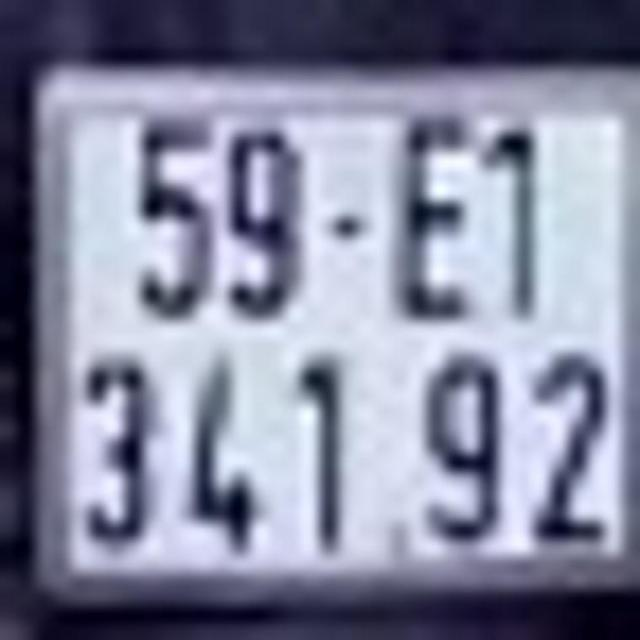1: (486, 103, 548, 314), (298, 351, 356, 564)
2: (532, 339, 613, 544)
3: (80, 349, 158, 556)
4: (188, 352, 272, 554)
5: (128, 102, 218, 324)
9: (230, 119, 309, 334), (420, 344, 503, 545)
E: (394, 99, 482, 327)
